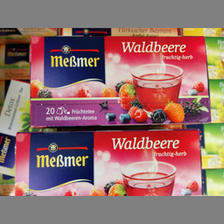tea: (28, 33, 211, 128), (15, 129, 202, 195)
